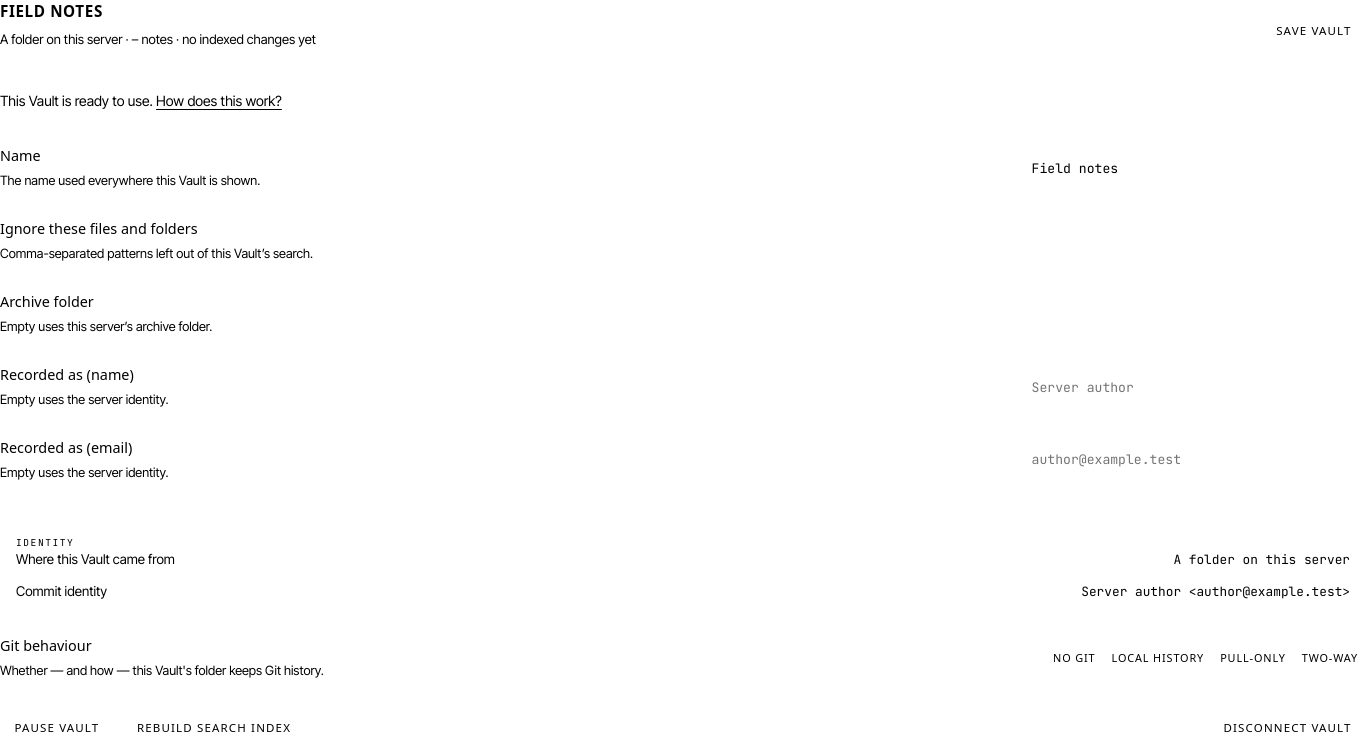
VaultSettingsDetail — the Git behaviour control › requires a refuse-then-confirm round trip to turn Git on, running pause, edit and un-pause as one act
The image size is (1366, 752).
Expected: the heading "Field notes" is shown, [0,1,103,21]
Click the button "Local history" at (1158, 658), box [1104,644,1212,672]
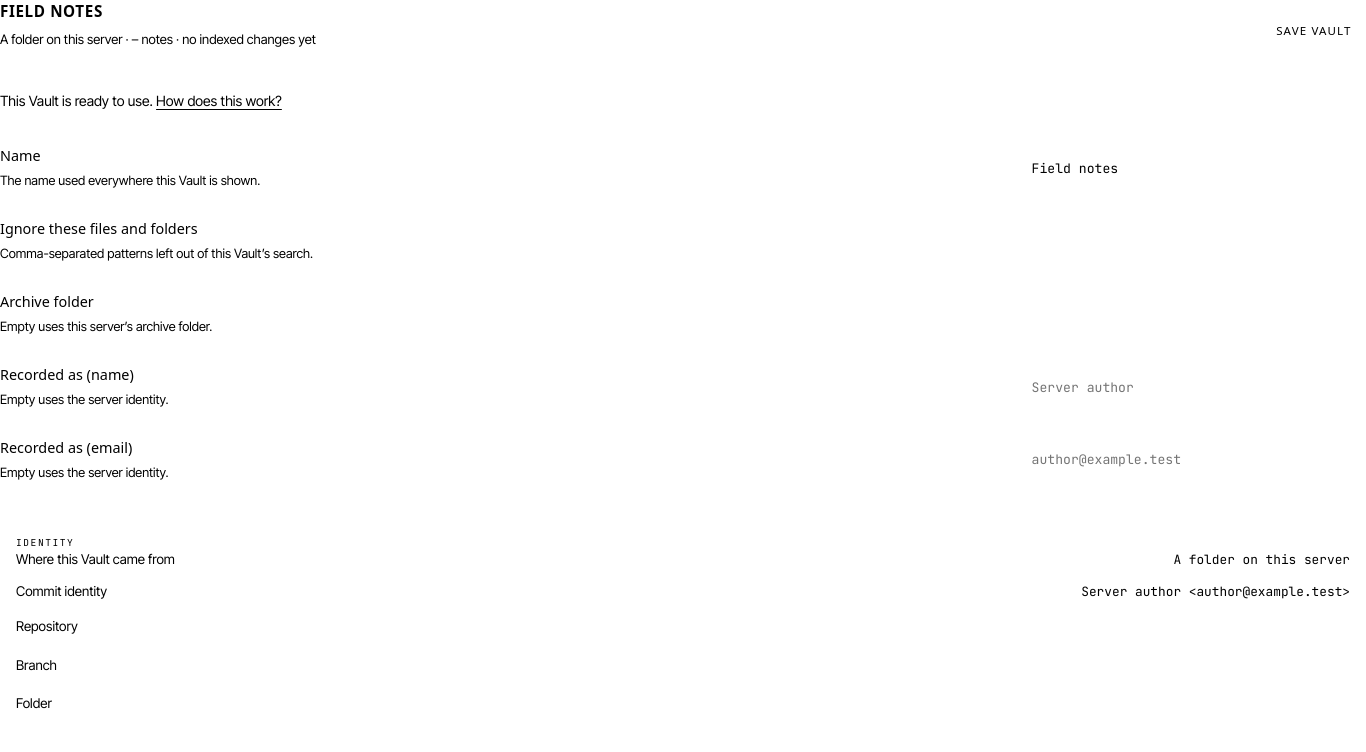
Click the button "Save Vault" at (1314, 31), box [1262,16,1365,45]
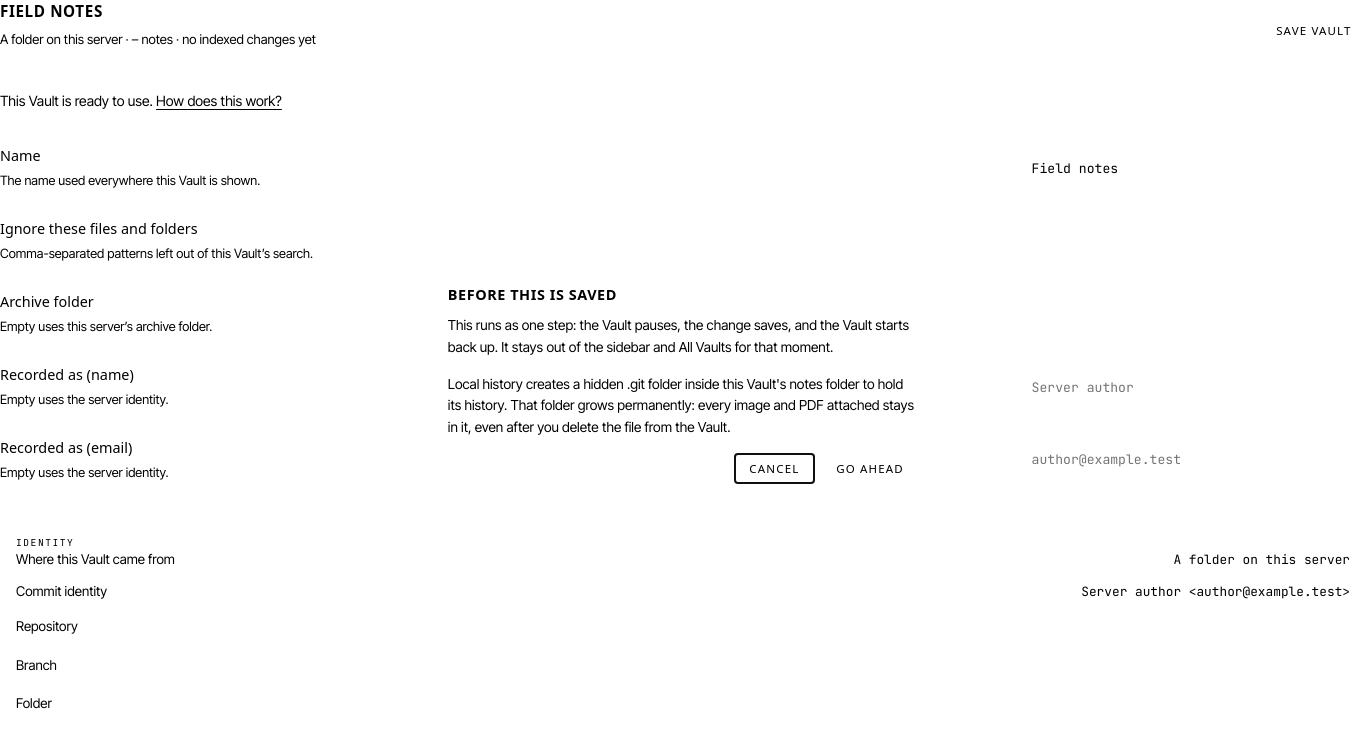
Expected: the dialog "Before this is saved" shows "hidden .git folder", [448,376,914,435]
Expected: the dialog "Before this is saved" shows "grows permanently", [448,376,914,435]
Click the button "Go ahead" at (870, 469), box [822,454,918,483]
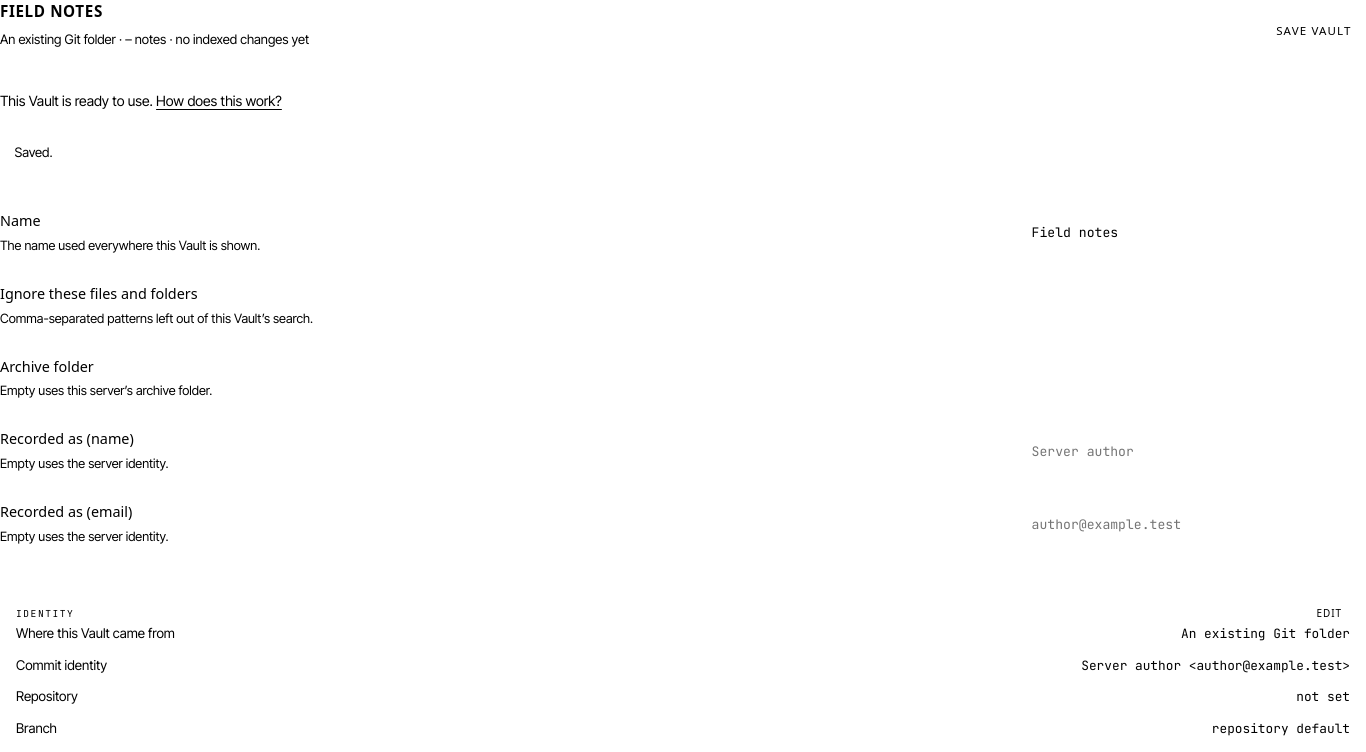
Expected: the text "Saved." is shown, [14,144,53,160]
